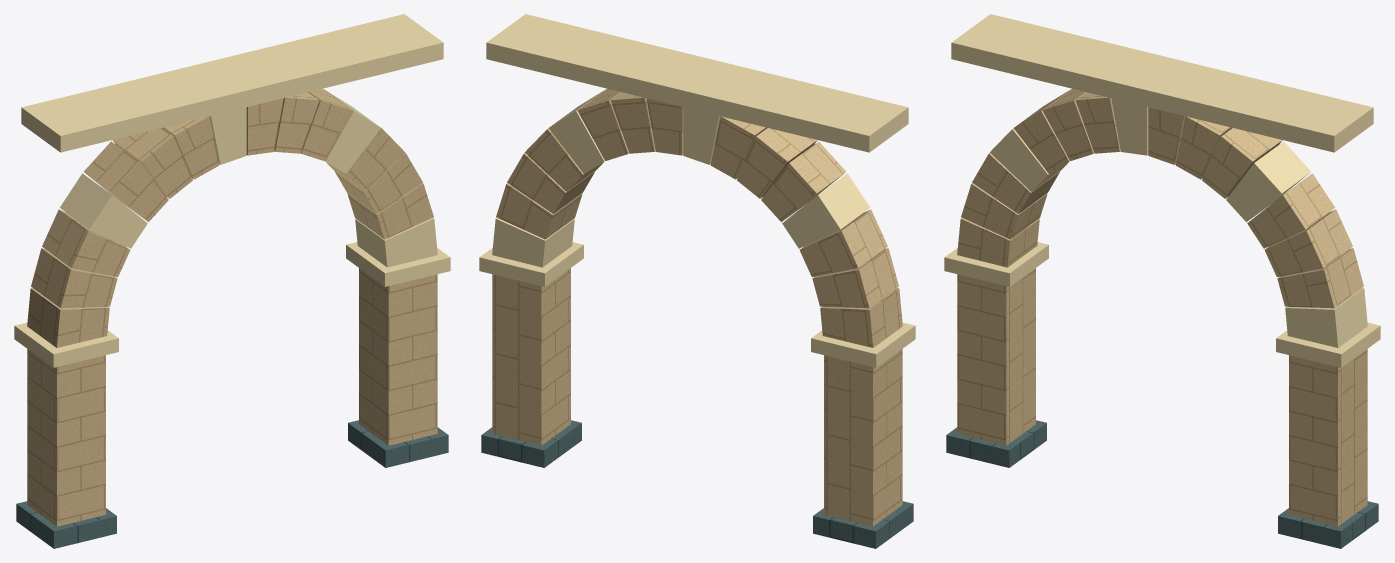
File: arcade.obj
3 views of the same model, side by side, from view 1: azimuth 30°, elevation 25°; view 2: azimuth 150°, elevation 25°; view 3: azimuth 330°, elevation 25° (orthographic).
Size of the model in its own units: 8.5 by 8.43 by 1.45.
3 materials, 2 textured.
